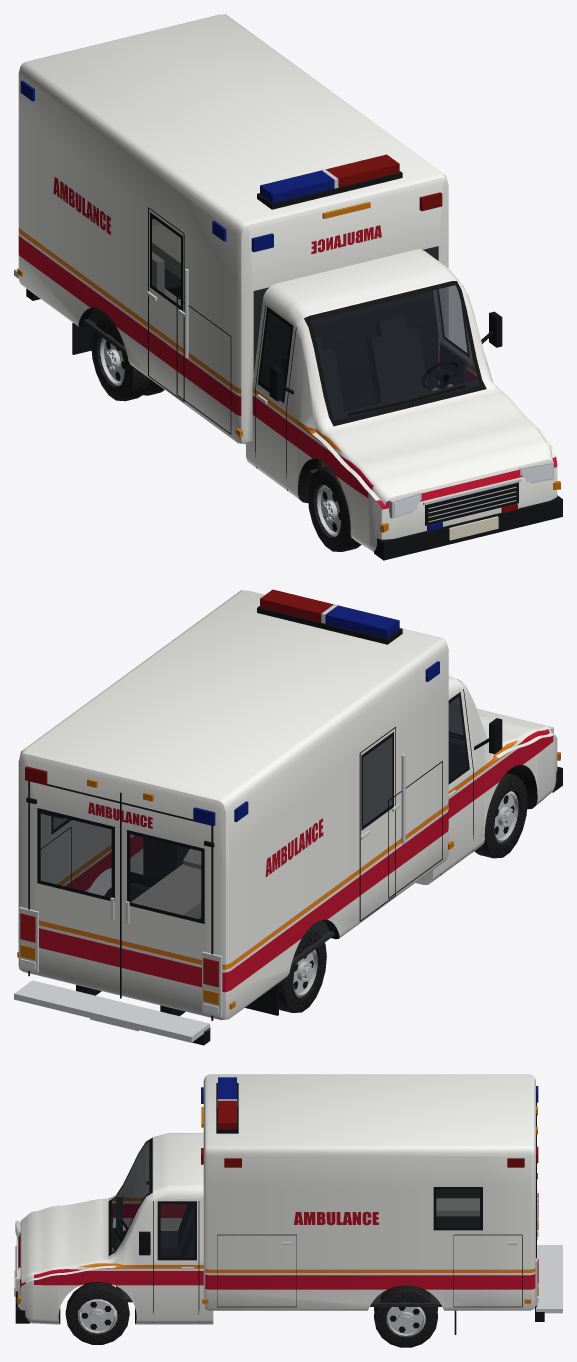
File: car_ambulance.glb
3 views of the same model, one above another, from view 1: azimuth 30°, elevation 25°; view 2: azimuth 150°, elevation 25°; view 3: azimuth 270°, elevation 25° (orthographic). The views are drawn at different scales.
Parts seen in each view (by area): view 1: Body, wheel_RR, wheel_FR, Door_L; view 2: Body, wheel_FR, wheel_RR; view 3: Body, Door_L, wheel_FL, wheel_RL.
Boxes of the visible parts, x1,y1,x2,y2 form: Body: (14, 14, 562, 560); wheel_RR: (91, 319, 164, 401); wheel_FR: (307, 466, 361, 551); Door_L: (436, 289, 472, 386); Body: (14, 589, 562, 1045); wheel_FR: (474, 773, 527, 858); wheel_RR: (278, 930, 326, 1012); Body: (14, 1074, 562, 1334); Door_L: (153, 1199, 198, 1323); wheel_FL: (65, 1282, 129, 1344); wheel_RL: (374, 1285, 437, 1347).
Bounding box in the file's own units: 2.41 × 2.96 × 6.89.
Materials: 18 (1 with a texture image).
